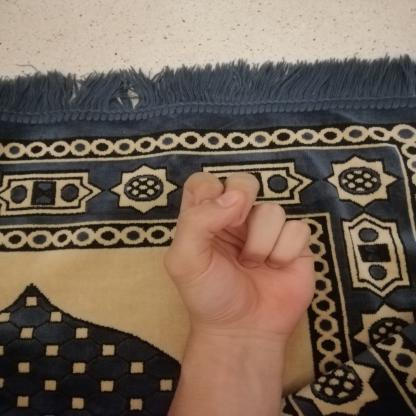QAAF: (150, 159, 329, 342)
